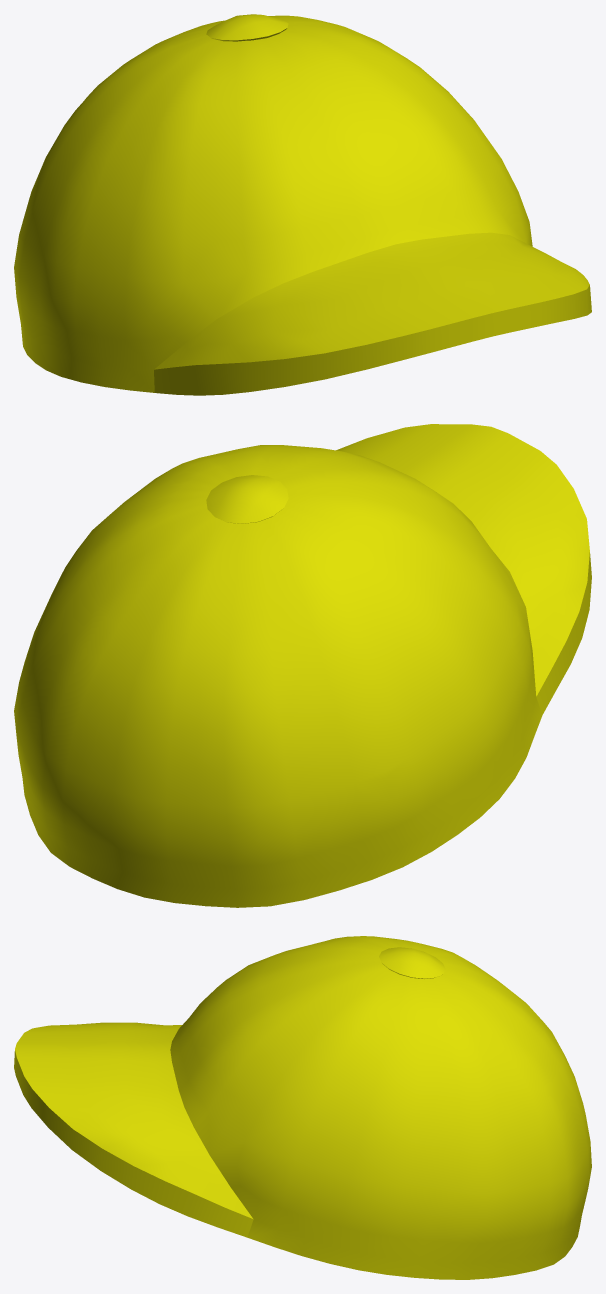
Rendered from Cap1_57.glb.
The picture shows the model from 3 angles, top to bottom: view 1: azimuth 30°, elevation 25°; view 2: azimuth 150°, elevation 25°; view 3: azimuth 270°, elevation 25°; orthographic projection. The views are drawn at different scales.
Size of the model in its own units: 57.74 by 42.22 by 80.85.
